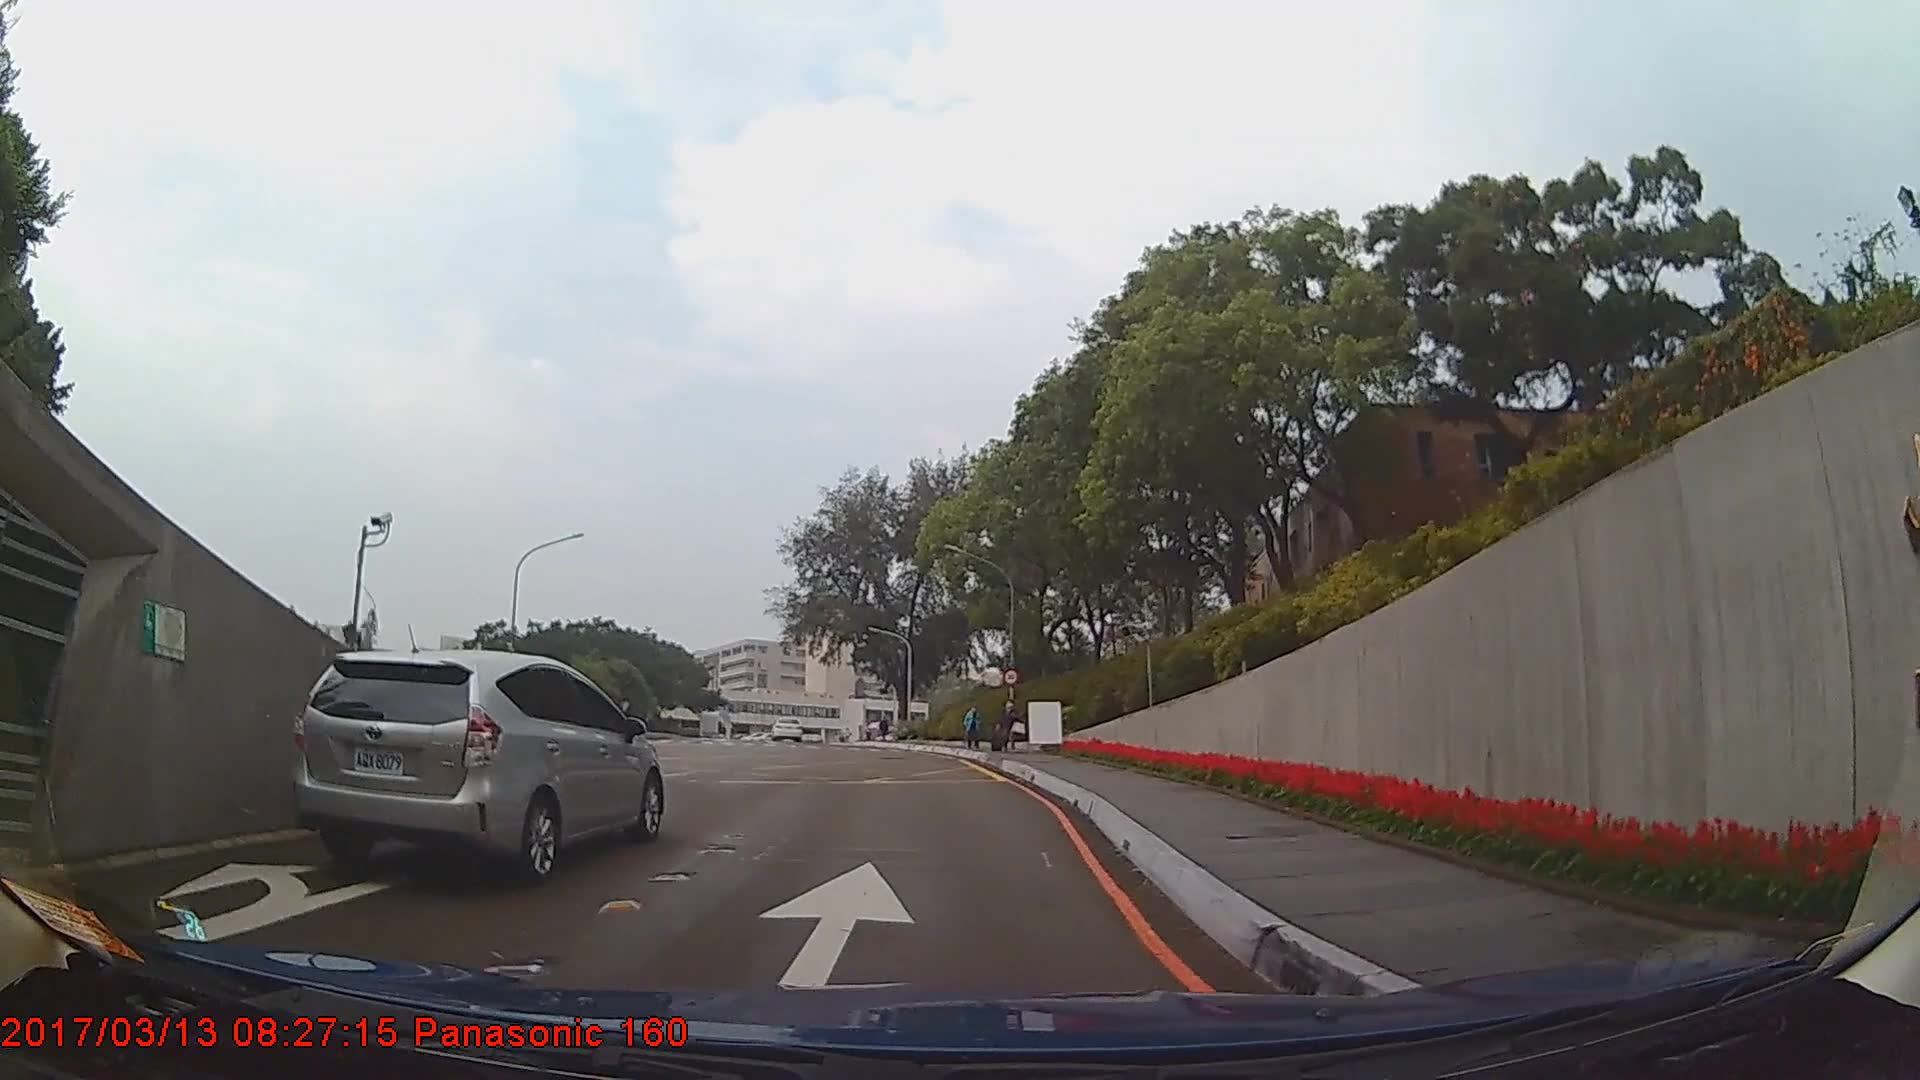pedestrian: (992, 696, 1028, 751), (961, 706, 982, 753)
vehicle: (285, 646, 662, 888), (768, 714, 802, 741)
